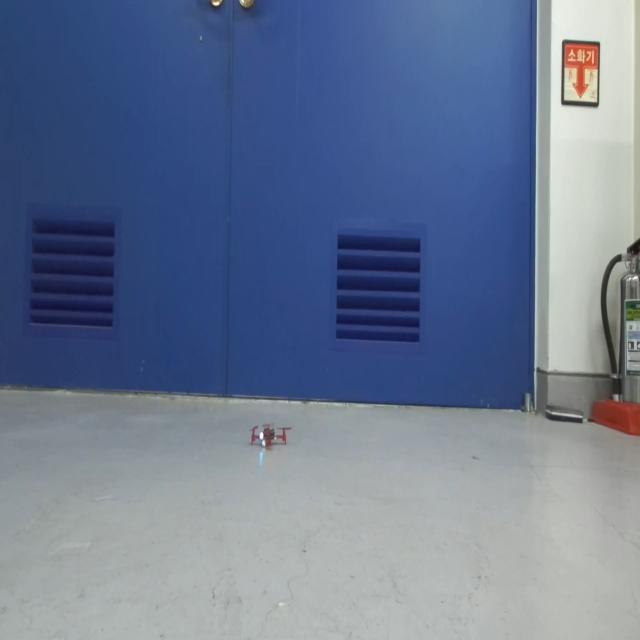crazyflie: (247, 420, 291, 453)
